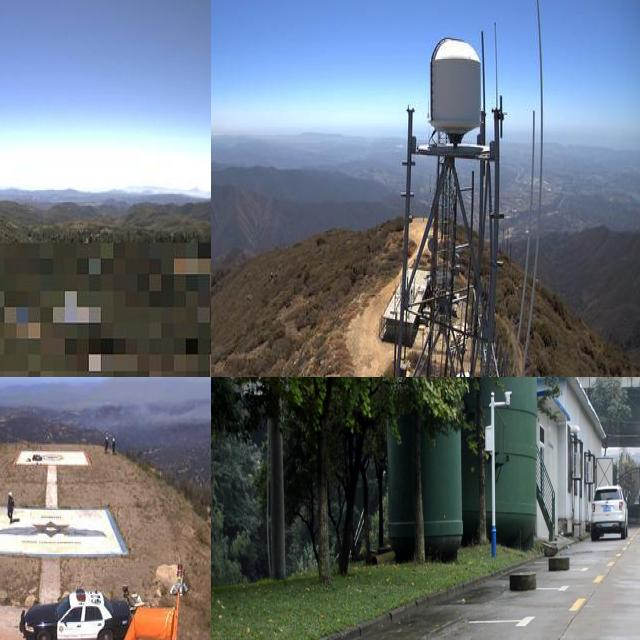smoke: (135, 377, 211, 442)
